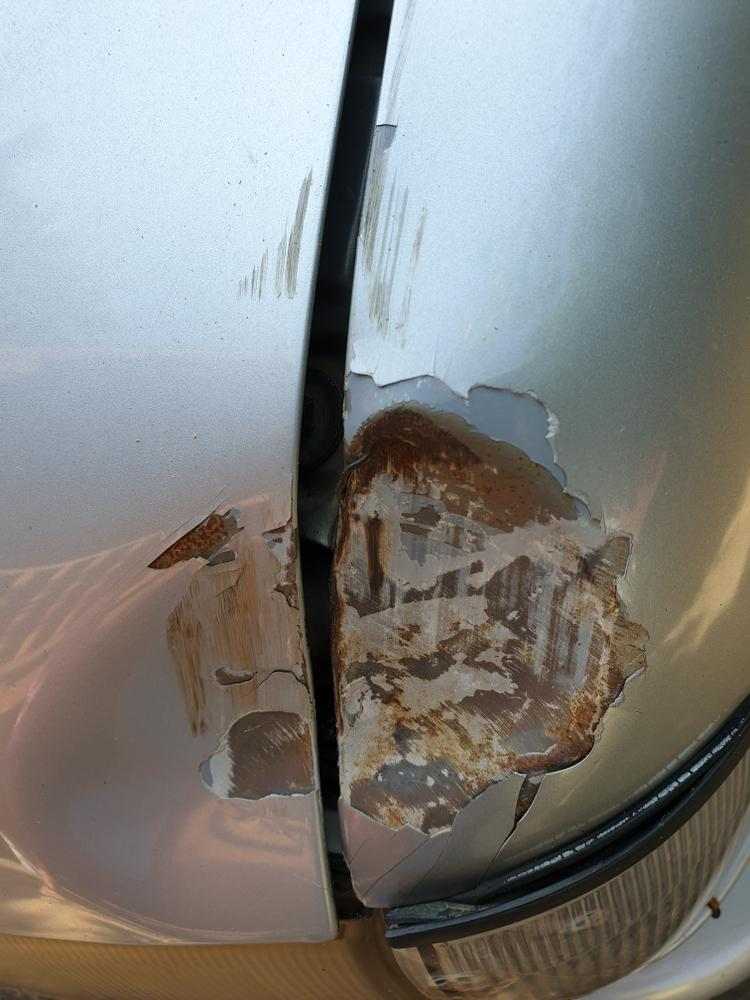dent: (0, 483, 335, 948), (331, 389, 654, 855)
scratch: (355, 0, 431, 349), (231, 153, 316, 307)
